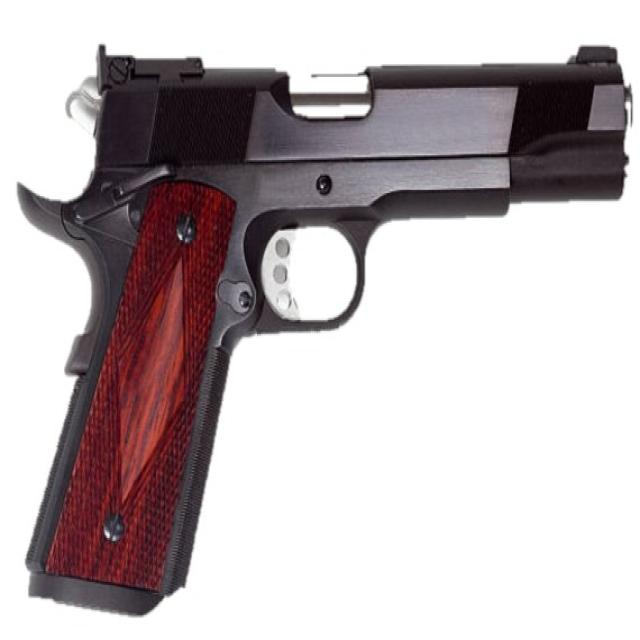pistol: (1, 1, 640, 617)
